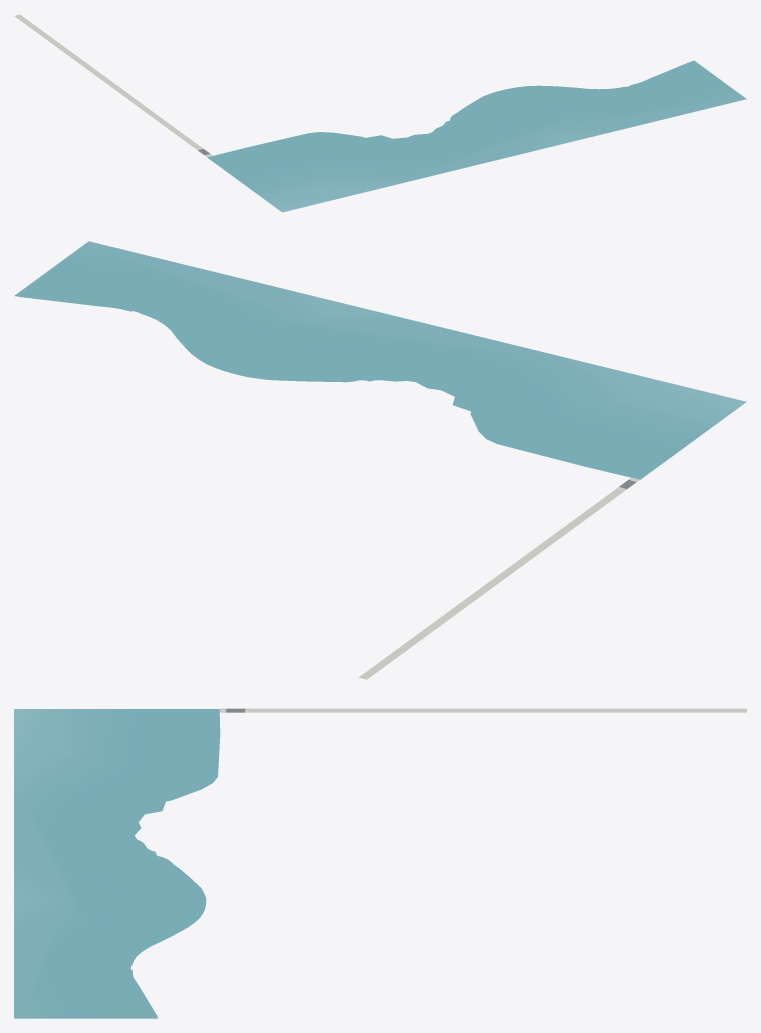
The picture shows the model from 3 angles, top to bottom: view 1: azimuth 30°, elevation 25°; view 2: azimuth 150°, elevation 25°; view 3: azimuth 270°, elevation 25°; orthographic projection. The views are drawn at different scales.
Parts seen in each view (by area): view 1: city; view 2: city; view 3: city.
Boxes of the visible parts, x1,y1,x2,y2 form: city: (14, 14, 746, 212); city: (14, 241, 746, 679); city: (14, 708, 746, 1018).
Bounding box in the file's own units: 500 × 0.4 × 500.
